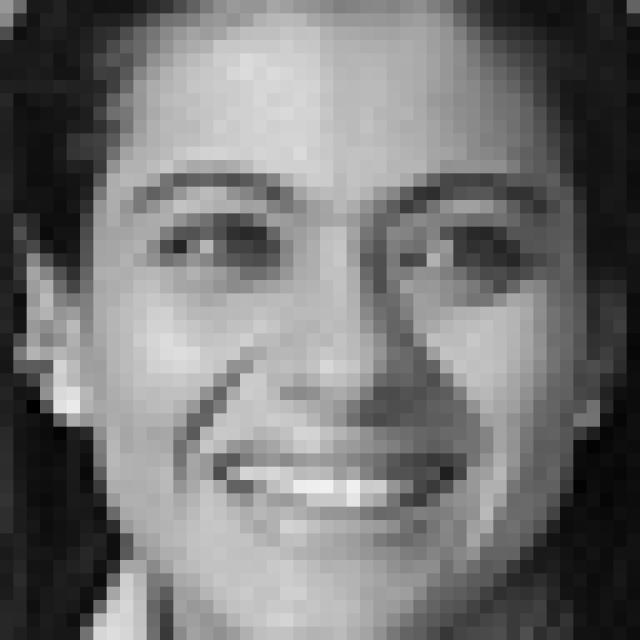happy: (116, 151, 561, 562)
